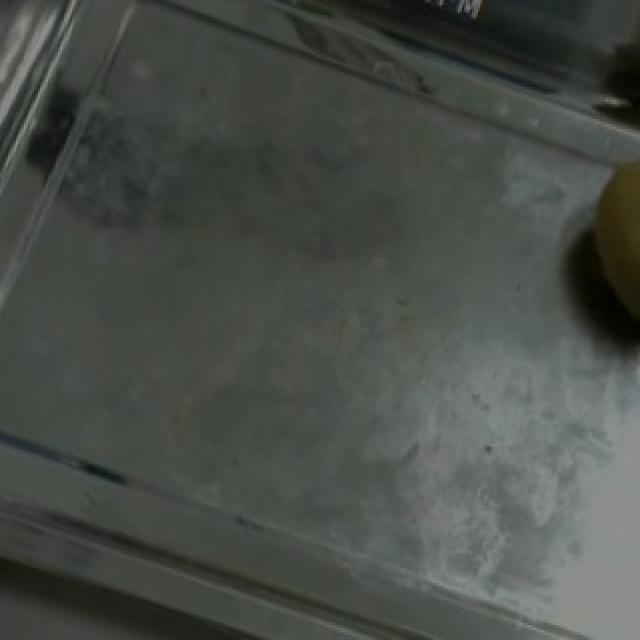Fruit: (544, 129, 640, 372)
